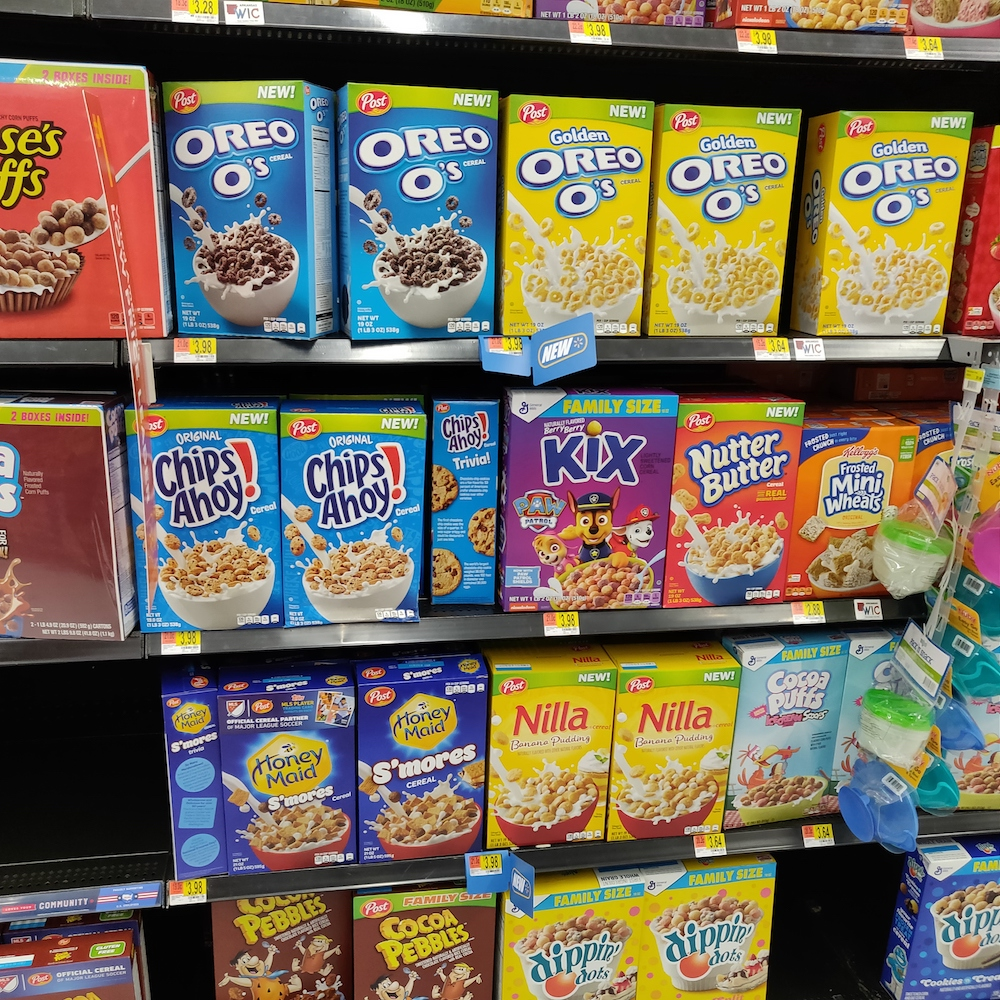Cocoa Pebbles-555517893: (350, 892, 498, 1000), (212, 900, 351, 1000)
Cocoa Puffs Ice Cream-563408546: (735, 653, 844, 813)
Dippin Dots Banana-568929376: (494, 873, 637, 1000), (638, 873, 779, 998)
Honey Maid Graham -563424385: (222, 707, 360, 858)
Kix Berry -568919964: (510, 415, 665, 606), (902, 869, 1000, 983)
Nilla -568301014: (611, 669, 734, 833), (497, 679, 616, 844)
Nutter Butter-565717511: (666, 417, 789, 597)
Oreo Golden-568301011: (496, 118, 651, 333), (651, 119, 798, 345), (812, 138, 962, 335), (282, 426, 411, 615)
Oreo-563424384: (333, 105, 501, 338), (167, 106, 323, 342)
